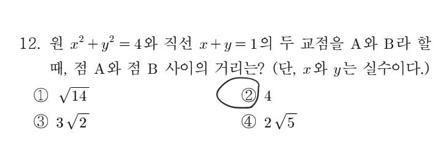1: (214, 76, 262, 108)
paper: (238, 86, 259, 106), (237, 111, 258, 131), (29, 85, 50, 105), (30, 111, 51, 131)
